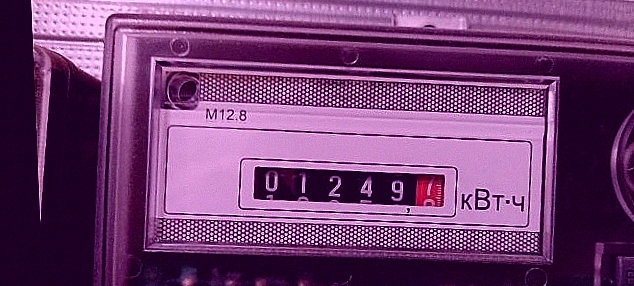0: (262, 166, 280, 192)
1: (294, 168, 309, 194)
2: (324, 172, 342, 199)
4: (357, 172, 374, 198)
7: (421, 170, 437, 197)
9: (387, 176, 405, 202)
screen: (235, 146, 461, 228)
